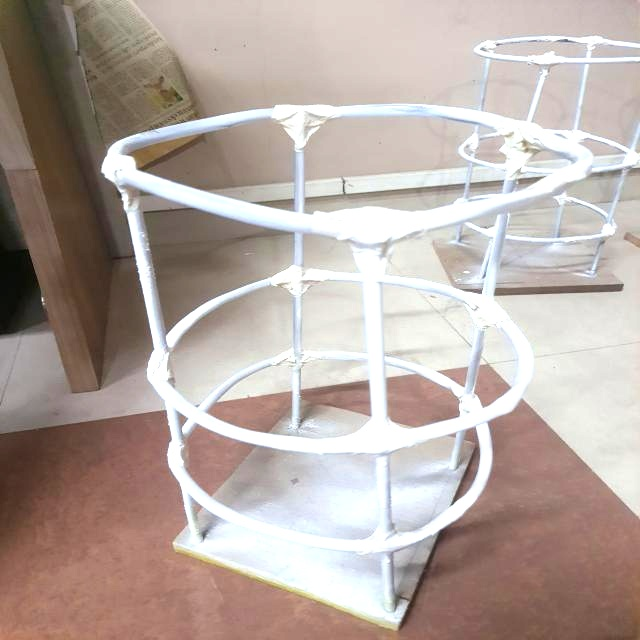silo: (96, 99, 591, 638), (454, 28, 625, 299)
